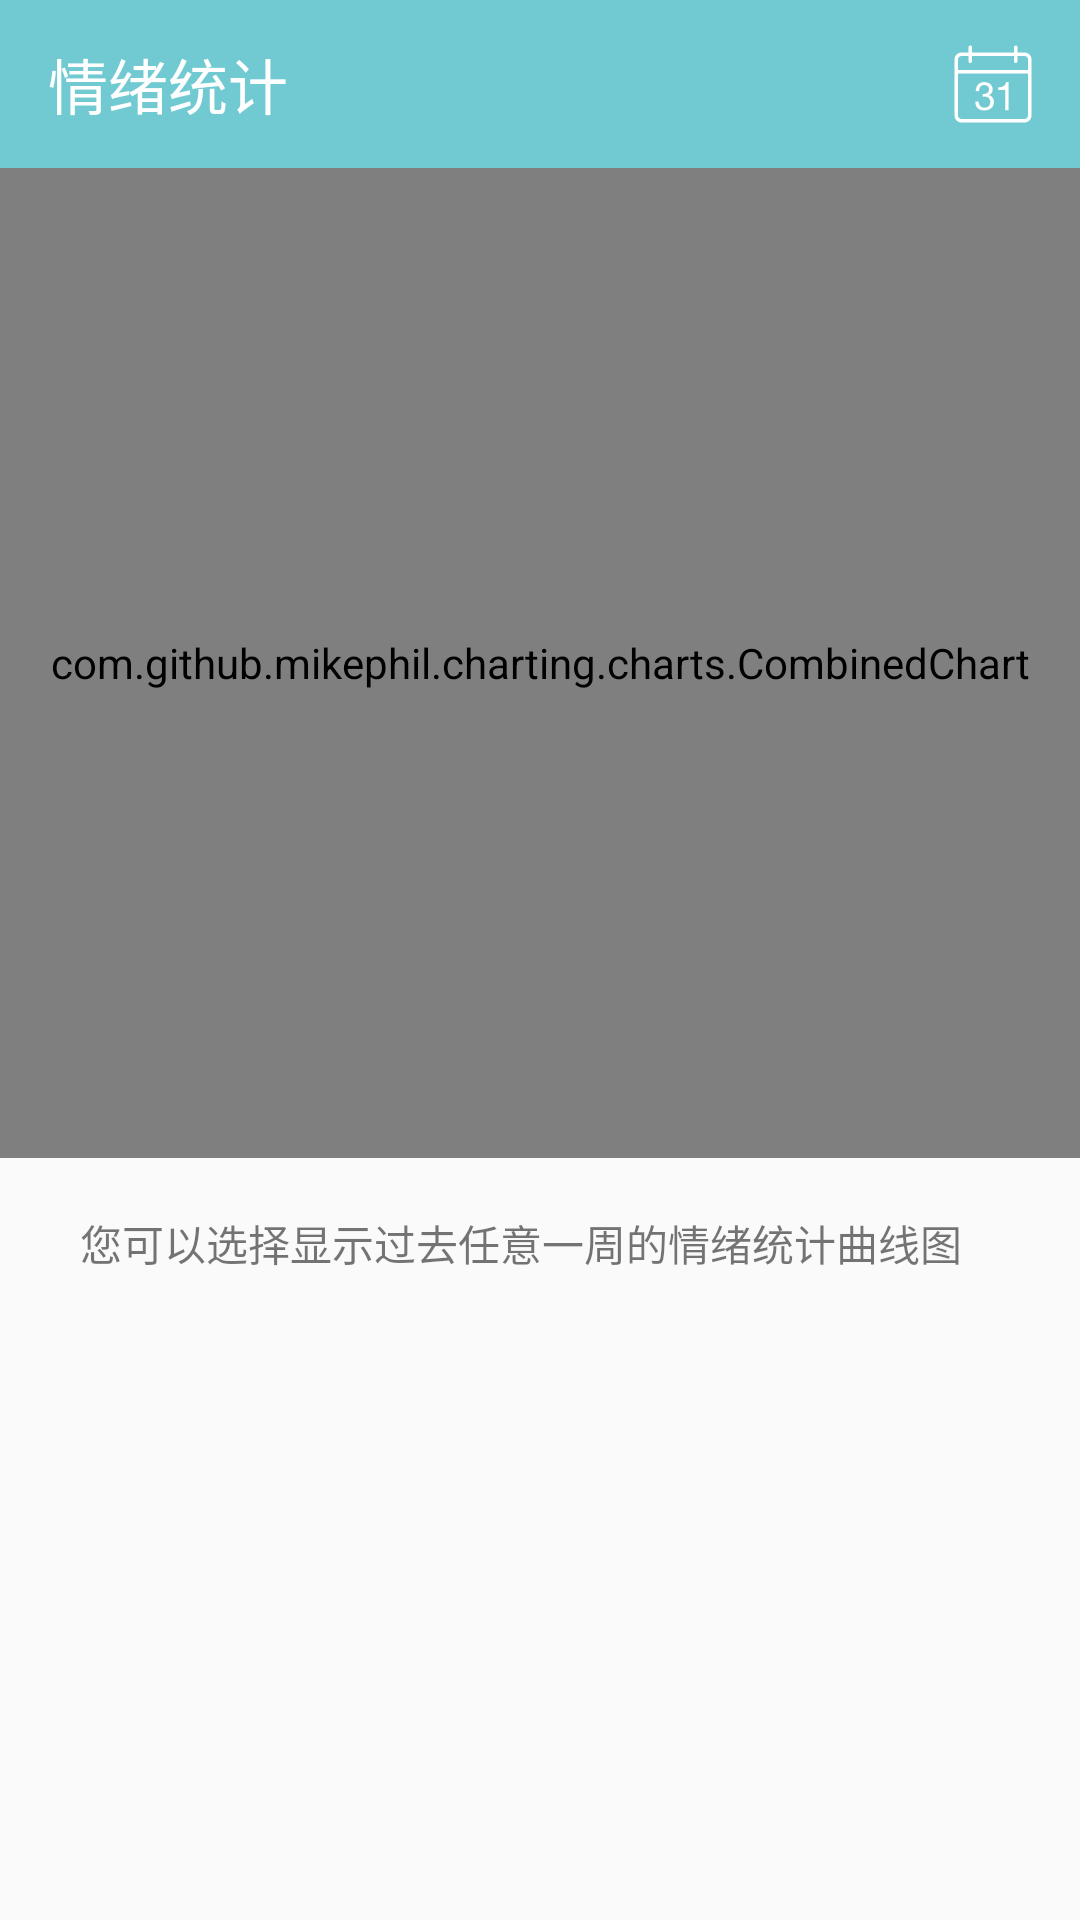

Point at icon controls on the screen. Image size 1080*1920, points as (x=x, y=y).
calendar: (x=993, y=84)
